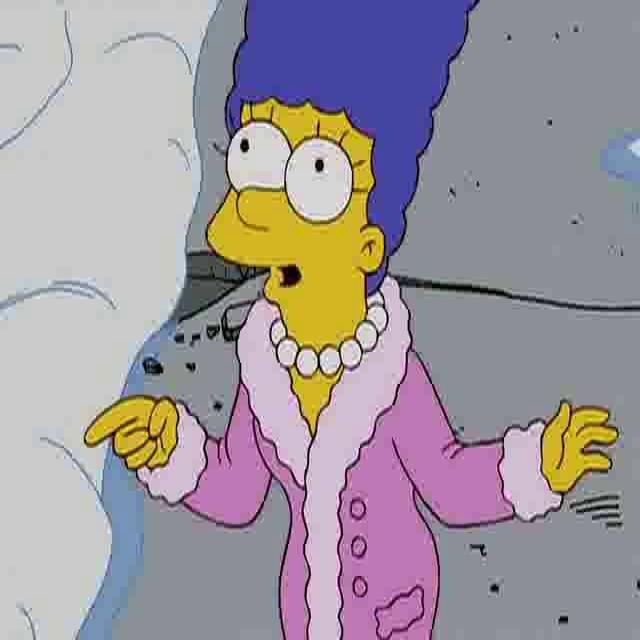Marge Simpson: (203, 1, 473, 383)
